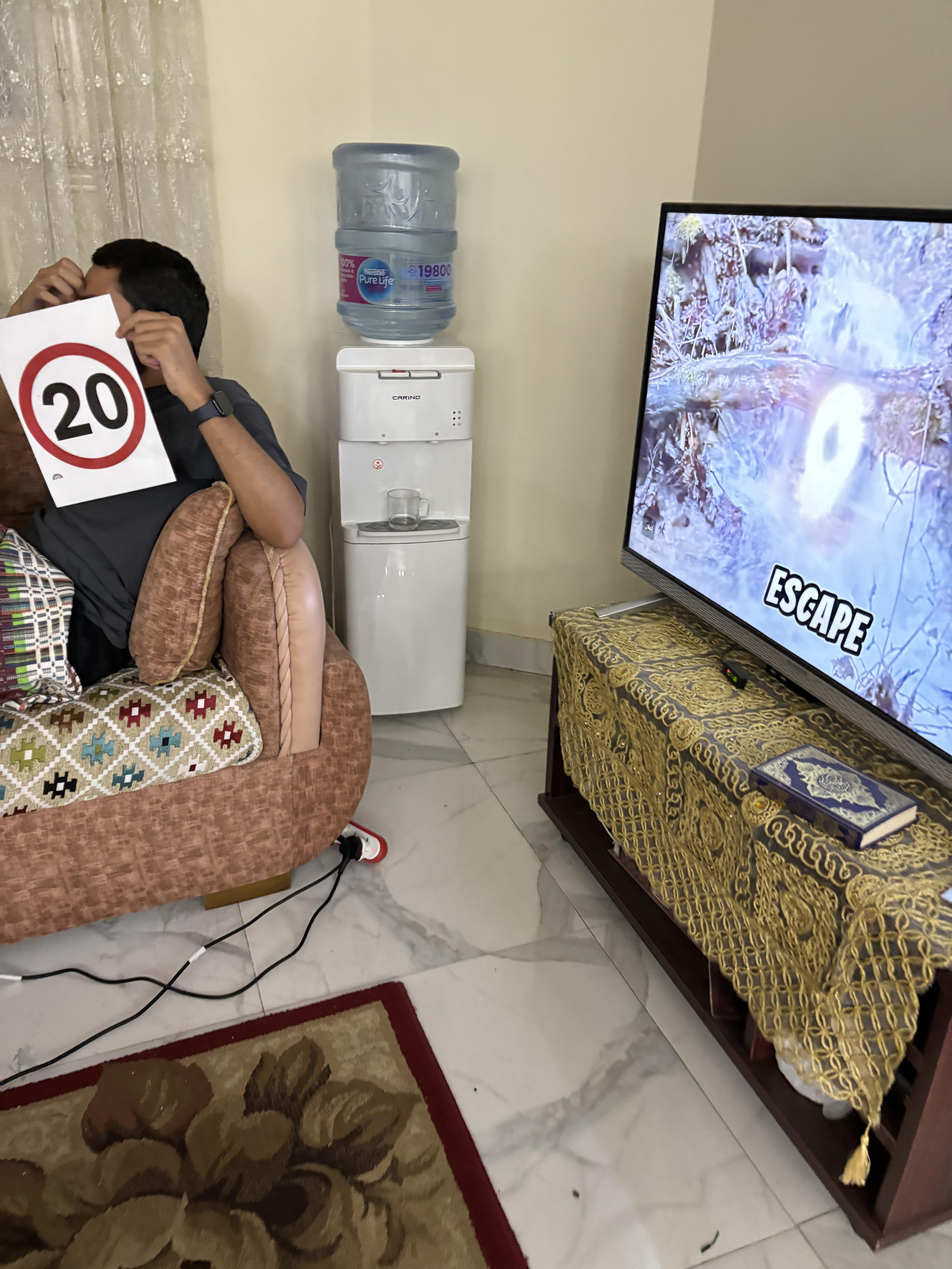20-Speed: (20, 340, 154, 468)
